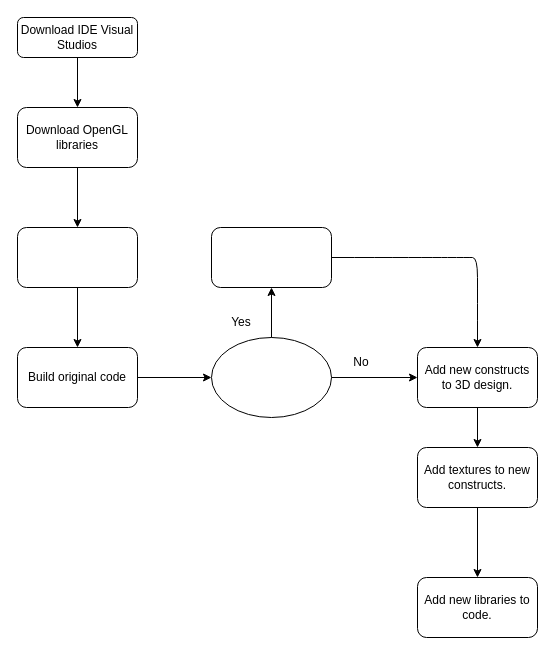
This 555x655 diagram has some shape labels left out. The shapes that lost their labels are listed below. From the top down, each one's centre as x and y in pixels, then its label:
At [77,257]: "Upload Project Code to IDE".
At [271,257]: "Look for missing code, libraries, or errors. Fix issue".
At [271,377]: "Errors?".
